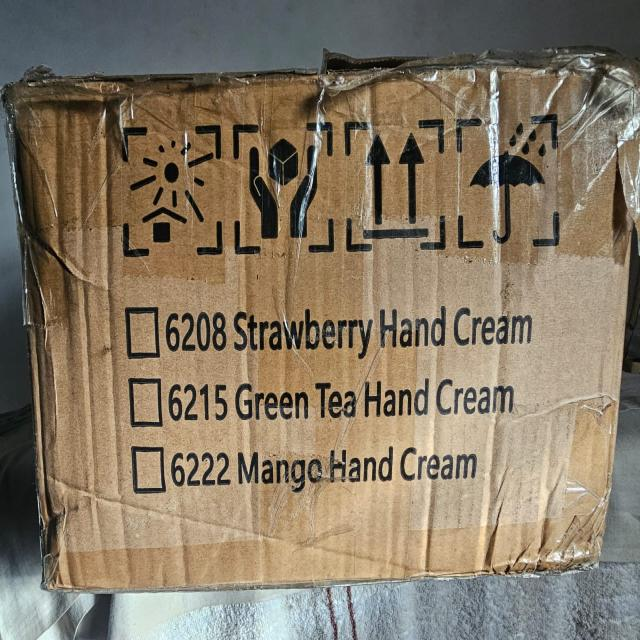carton_box: (0, 47, 640, 601)
handle_with_care_label: (231, 111, 338, 252)
keep_dry_label: (454, 115, 563, 260)
protect_from_heat_label: (117, 120, 229, 257)
this_side_up_label: (342, 112, 450, 248)
